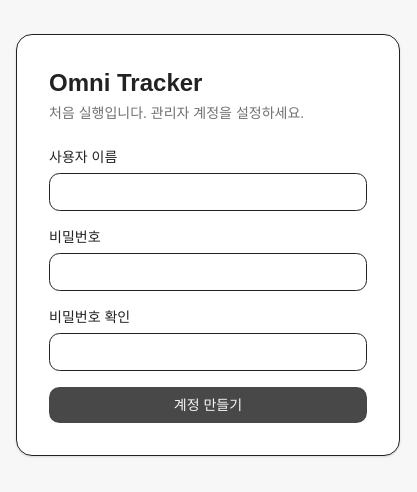
Test case: SetupPage › shows error when passwords do not match
Type "admin" into the field labelled "사용자 이름" at (208, 192), box [49, 173, 367, 211]
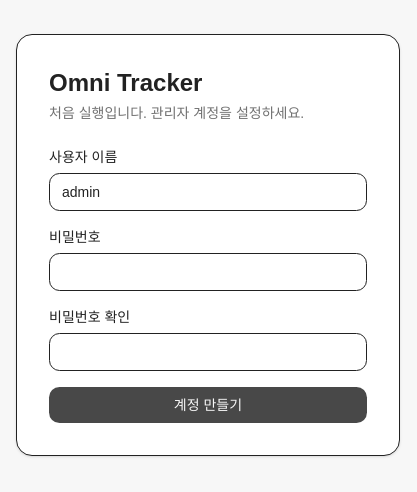
Type "password123" into the password field labelled "비밀번호" at (208, 272), box [49, 253, 367, 291]
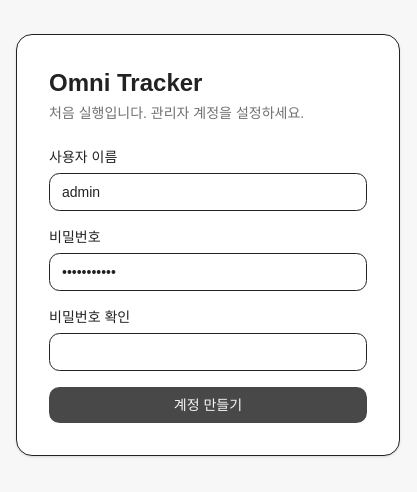
Type "different123" into the password field labelled "비밀번호 확인" at (208, 352), box [49, 333, 367, 371]
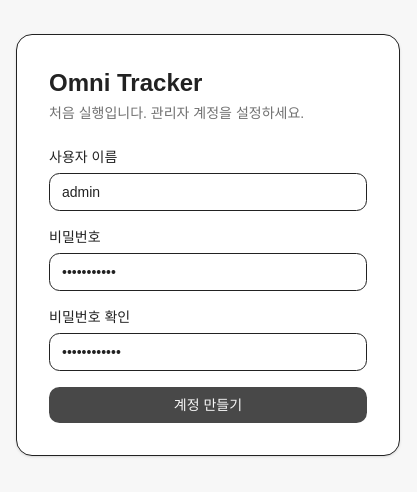
Click the button "계정 만들기" at (208, 405), box [49, 387, 367, 423]
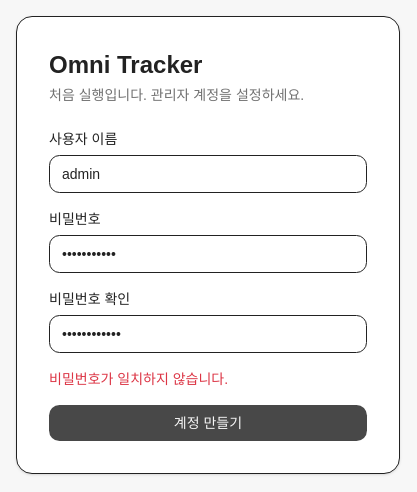
Expected: the text "비밀번호가 일치하지 않습니다." is shown, [49, 371, 228, 387]
